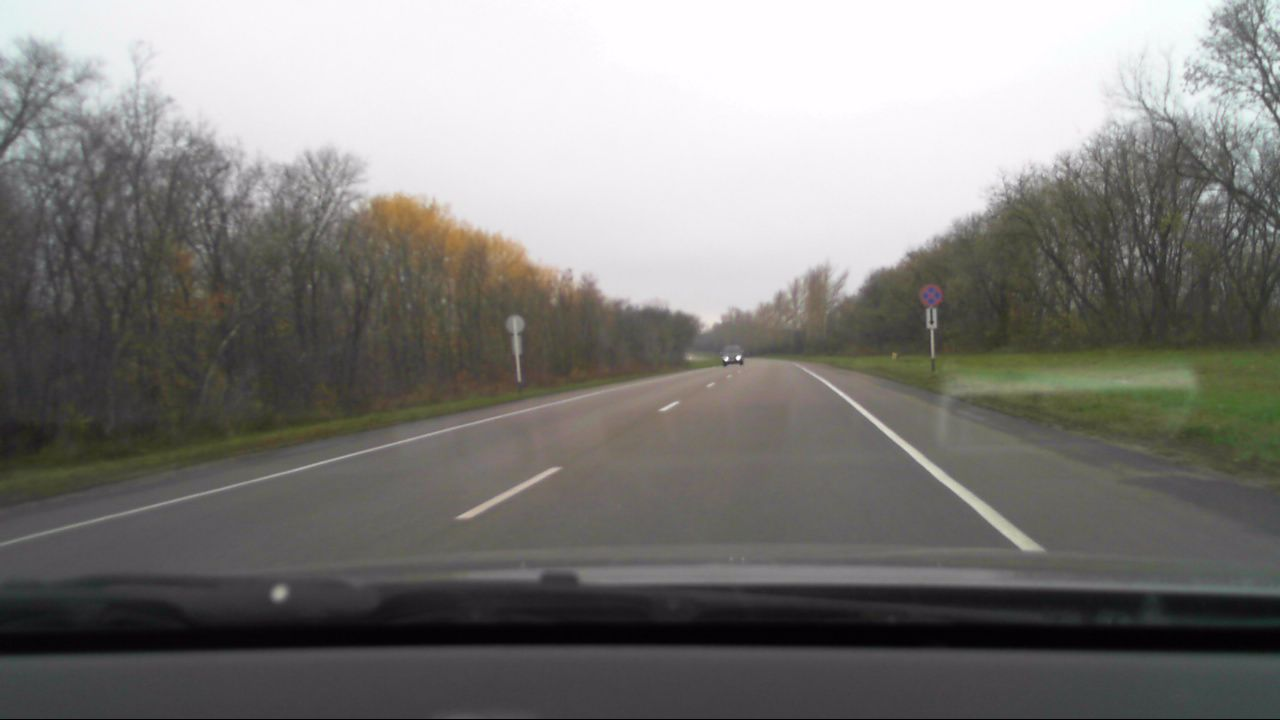No Parking: (917, 282, 941, 306)
